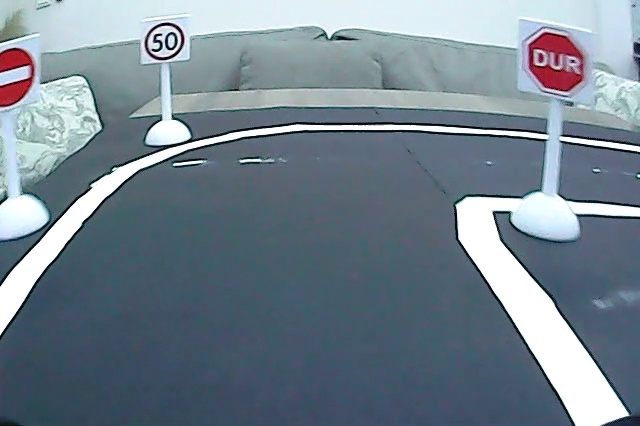do not enter: (1, 43, 38, 112)
speed limit 50: (144, 20, 186, 62)
stop sign: (522, 27, 590, 99)
